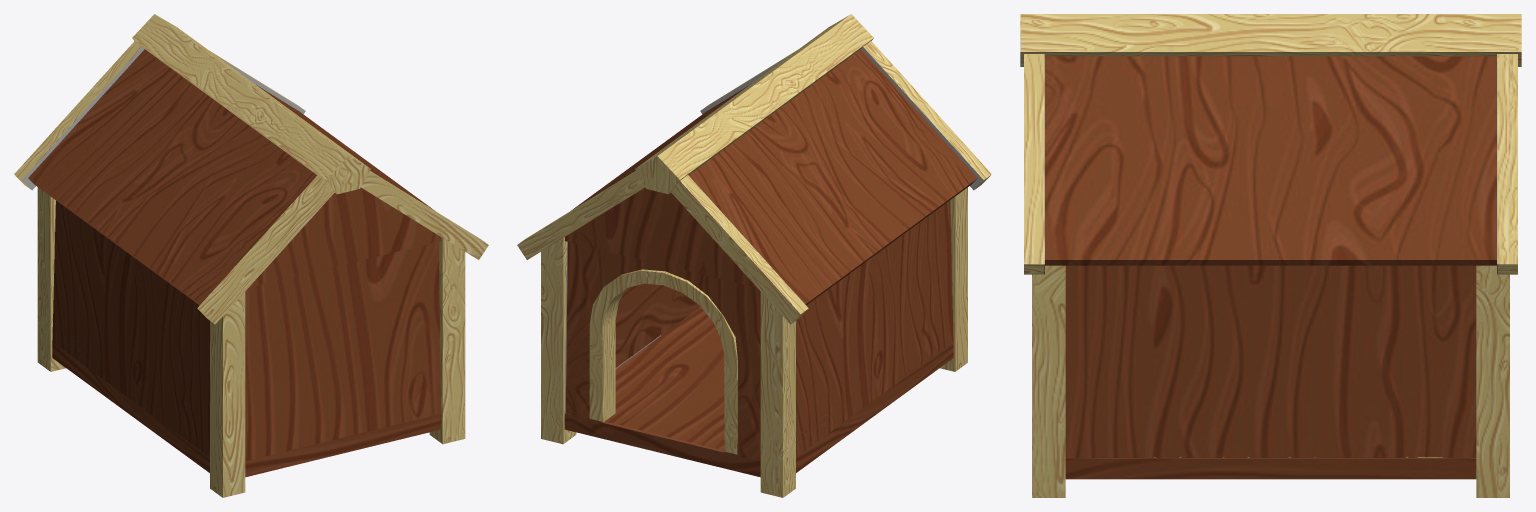
The model's file is FRM0510031.fbx.
3 views of the same model, side by side, from view 1: azimuth 30°, elevation 25°; view 2: azimuth 150°, elevation 25°; view 3: azimuth 270°, elevation 25° (orthographic). The views are drawn at different scales.
Visible parts, largest first — view 1: smFRM0510031; view 2: smFRM0510031; view 3: smFRM0510031.
Part boxes in pixels (x1=…): smFRM0510031: x1=14, y1=14, x2=488, y2=497; smFRM0510031: x1=517, y1=14, x2=991, y2=497; smFRM0510031: x1=1020, y1=14, x2=1521, y2=497.
Bounding box in the file's own units: 130 × 138 × 154.
1 material, 1 textured.
